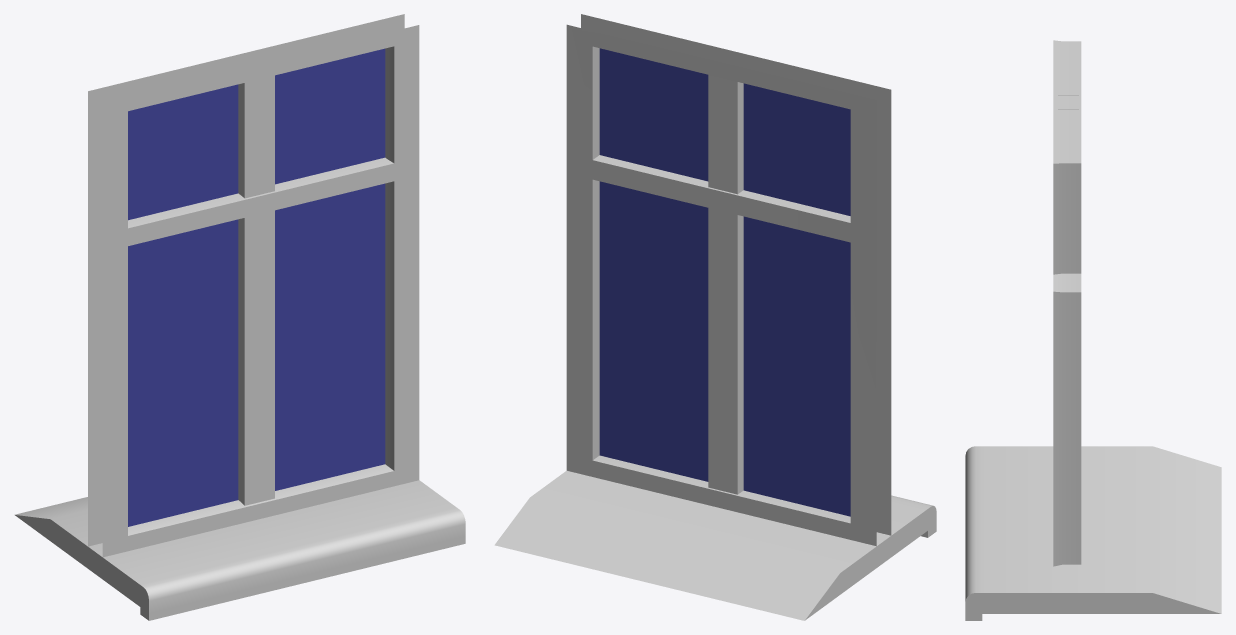
The model's file is SM_Window.fbx.
The picture shows the model from 3 angles, left to right: view 1: azimuth 30°, elevation 25°; view 2: azimuth 150°, elevation 25°; view 3: azimuth 270°, elevation 25°; orthographic projection. The views are drawn at different scales.
Visible parts, largest first — view 1: SM_Window; view 2: SM_Window; view 3: SM_Window.
Part boxes in pixels (x1,y1,x2,y2): SM_Window: (14, 14, 465, 620); SM_Window: (494, 14, 936, 620); SM_Window: (965, 40, 1221, 620).
Size of the model in its own units: 109 by 160 by 80.66.
